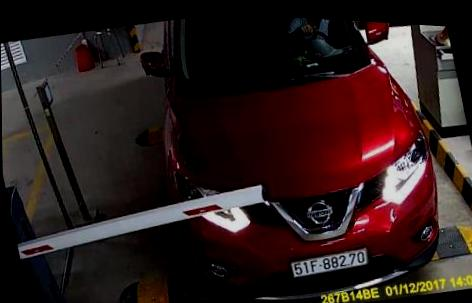License_Plate: (282, 240, 383, 285)
